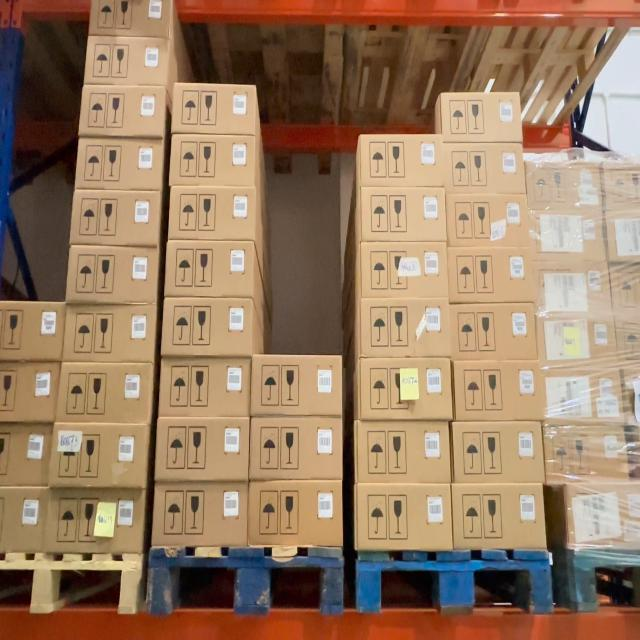box: (357, 488, 449, 547), (252, 479, 342, 539), (254, 420, 342, 478), (360, 362, 450, 418), (254, 358, 341, 412), (158, 487, 245, 540), (357, 429, 448, 479), (454, 492, 543, 542), (361, 300, 448, 351), (165, 245, 252, 296), (456, 425, 541, 477), (164, 301, 248, 353), (160, 424, 247, 474), (363, 136, 440, 190), (163, 366, 246, 416), (456, 366, 541, 414), (174, 190, 255, 240), (455, 248, 534, 298), (361, 251, 448, 296), (359, 193, 443, 239), (454, 309, 535, 355), (175, 86, 256, 132), (447, 144, 524, 190), (446, 96, 519, 143), (173, 140, 254, 181), (451, 200, 528, 242)
